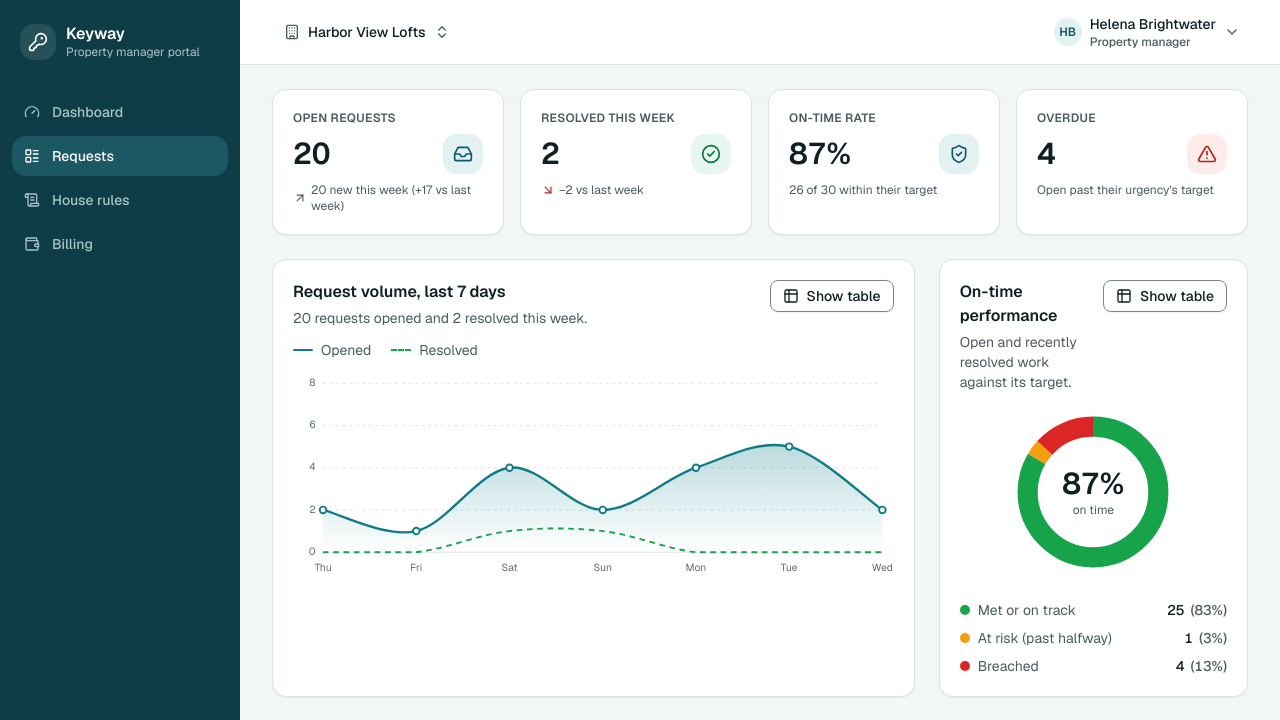
Test case: Dashboard › shows the 7-day volume as a table
Expected: the text "Open requests" is shown, [293,110,396,126]
Click the button "Show table" in the row of "Request volume, last 7 days".
click(832, 296)  # box [770,280,894,312]
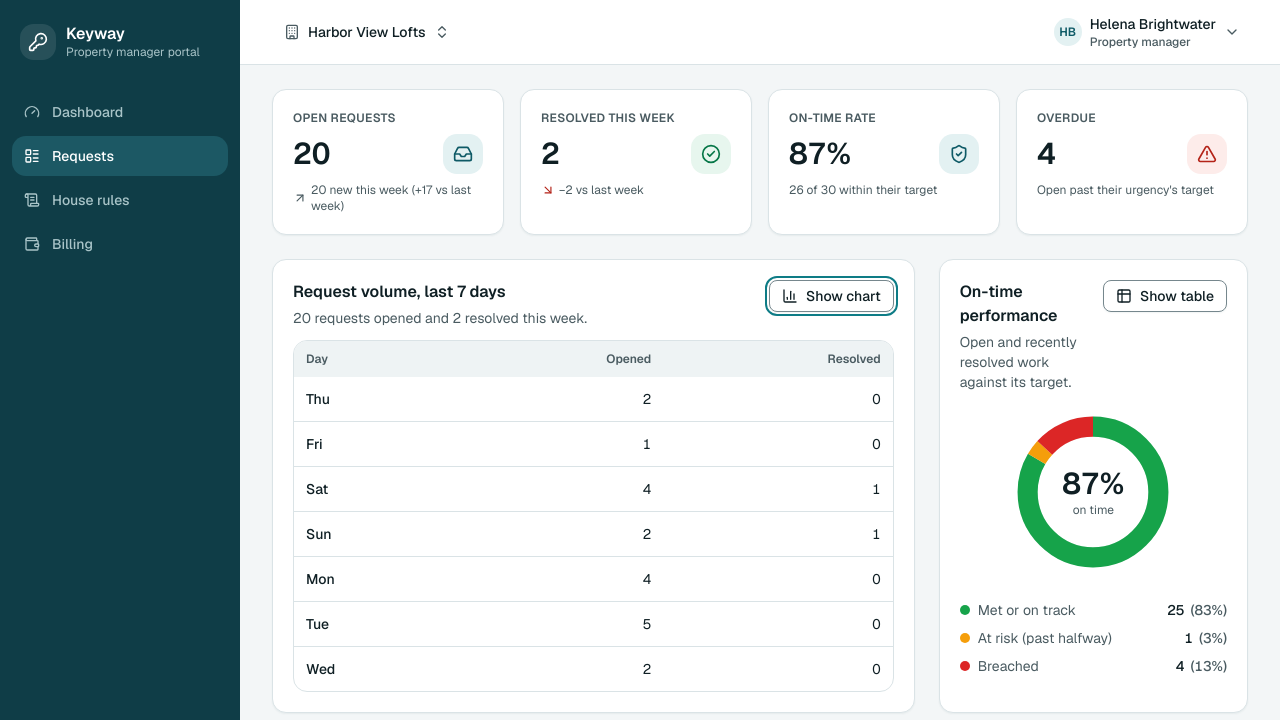
Result: the number of rows is 8
